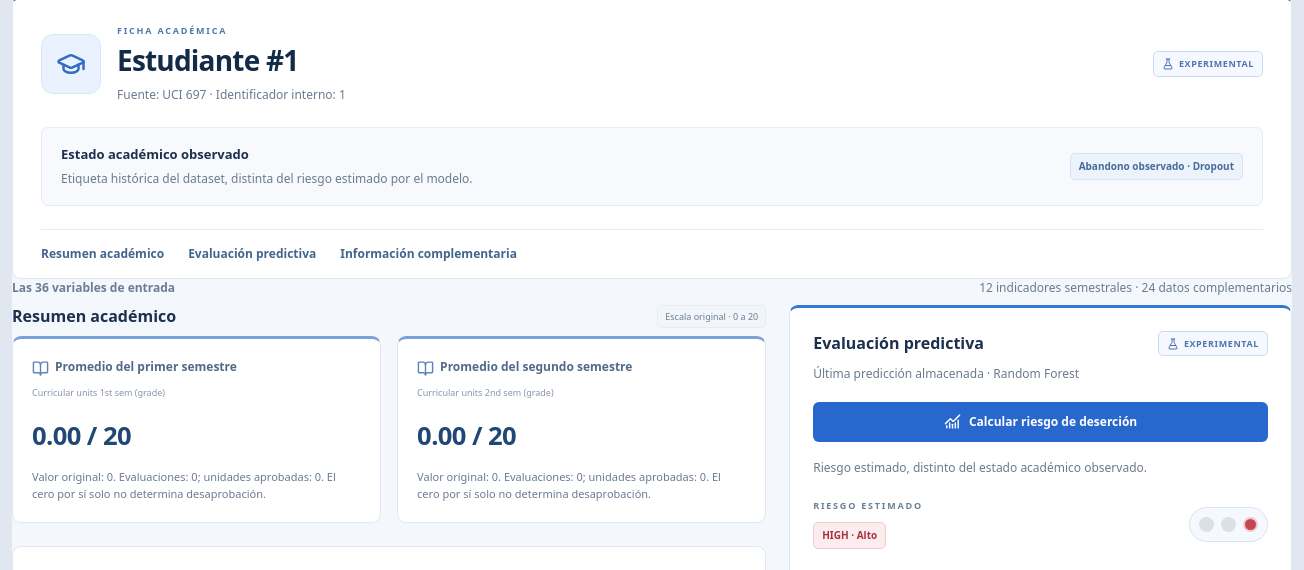
Test case: semáforo y persistencia de consultas › conserva y distingue la predicción anterior si falla un nuevo cálculo
Expected: the text "HIGH · Alto" is shown, [813,522,886,549]
Click the button "Calcular riesgo de deserción" at {"x": 1041, "y": 422}, box [813,402,1268,442]
(page scrolled)
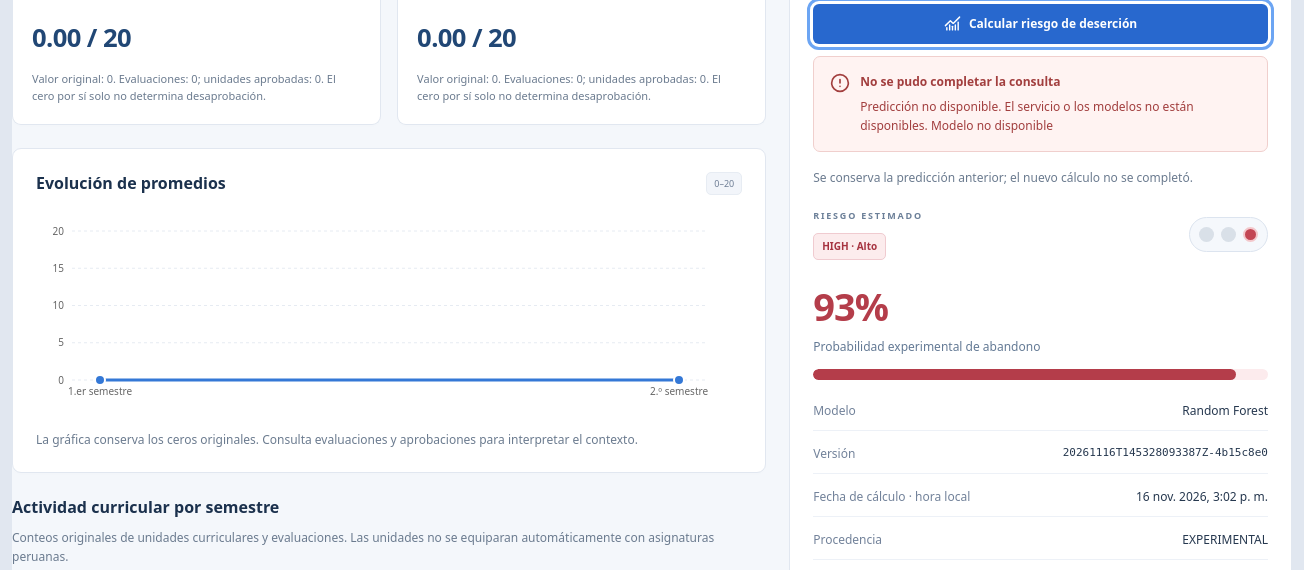
Expected: the progress indicator is shown, [813,369,1268,380]
Now the message is shown, box [813,56,1268,152]
Now the text "Se conserva la predicción anterior; el nuevo cálculo no se completó." is shown, box [813,169,1193,186]
